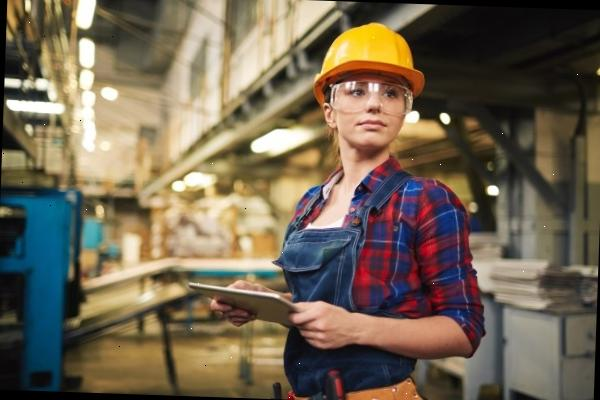helmet: (312, 19, 428, 100)
no_wear: (283, 174, 490, 399)
